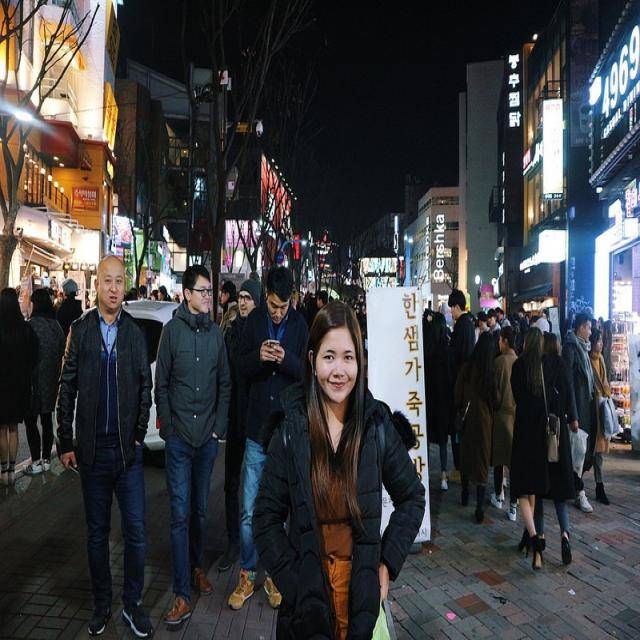body: (249, 296, 429, 639), (54, 250, 154, 638), (227, 265, 310, 611), (153, 262, 231, 627), (217, 277, 263, 572), (508, 325, 561, 570), (533, 329, 578, 567), (21, 286, 66, 476), (458, 330, 498, 525), (560, 309, 598, 513), (0, 285, 34, 488), (446, 285, 478, 471), (579, 325, 611, 507), (489, 324, 520, 511), (423, 310, 453, 492), (54, 277, 85, 341), (218, 279, 242, 361), (120, 284, 184, 303), (510, 304, 552, 332), (29, 265, 58, 302), (598, 316, 613, 382), (351, 292, 366, 352), (486, 307, 503, 358), (289, 289, 329, 310), (248, 268, 268, 306), (84, 276, 98, 309), (466, 312, 480, 342), (420, 308, 433, 338), (477, 312, 491, 339), (495, 308, 512, 330), (563, 306, 576, 333), (585, 306, 598, 332), (512, 333, 526, 356), (445, 315, 456, 344), (52, 290, 66, 309), (501, 466, 507, 504), (494, 304, 501, 324), (514, 495, 520, 506)
